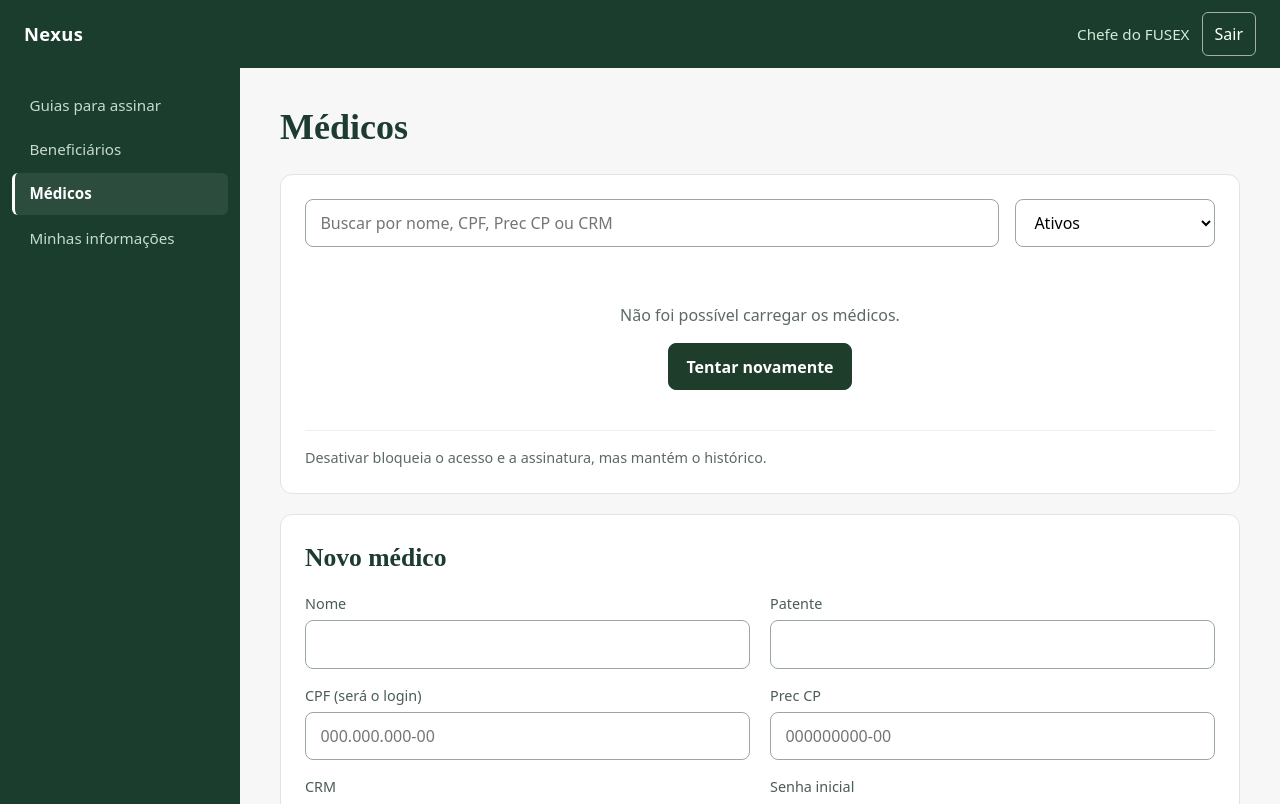
Test: App: login e acesso por perfil › "Sair" encerra a sessão e volta para o login
Click the button "Sair".
click(1229, 34)  # box [1202, 12, 1256, 56]
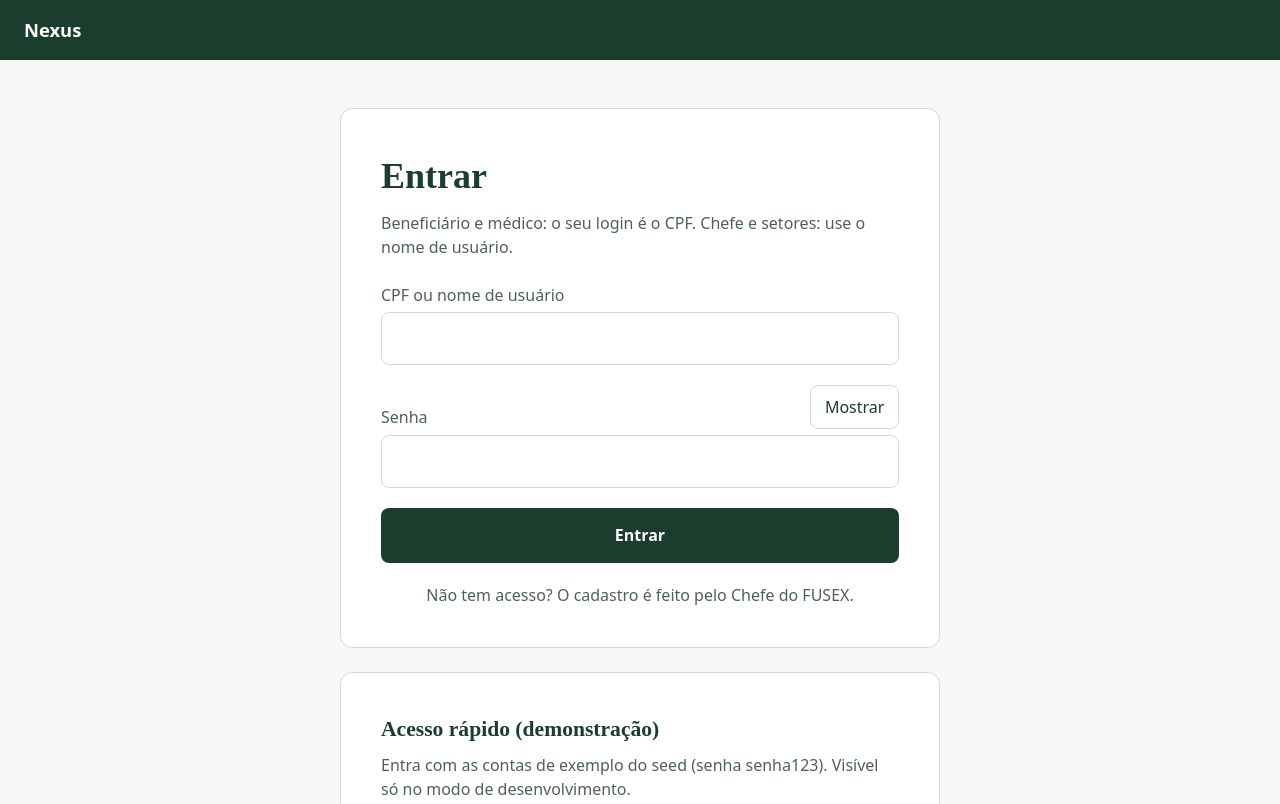
Expected: the heading "Entrar" is shown, [381, 156, 487, 196]
